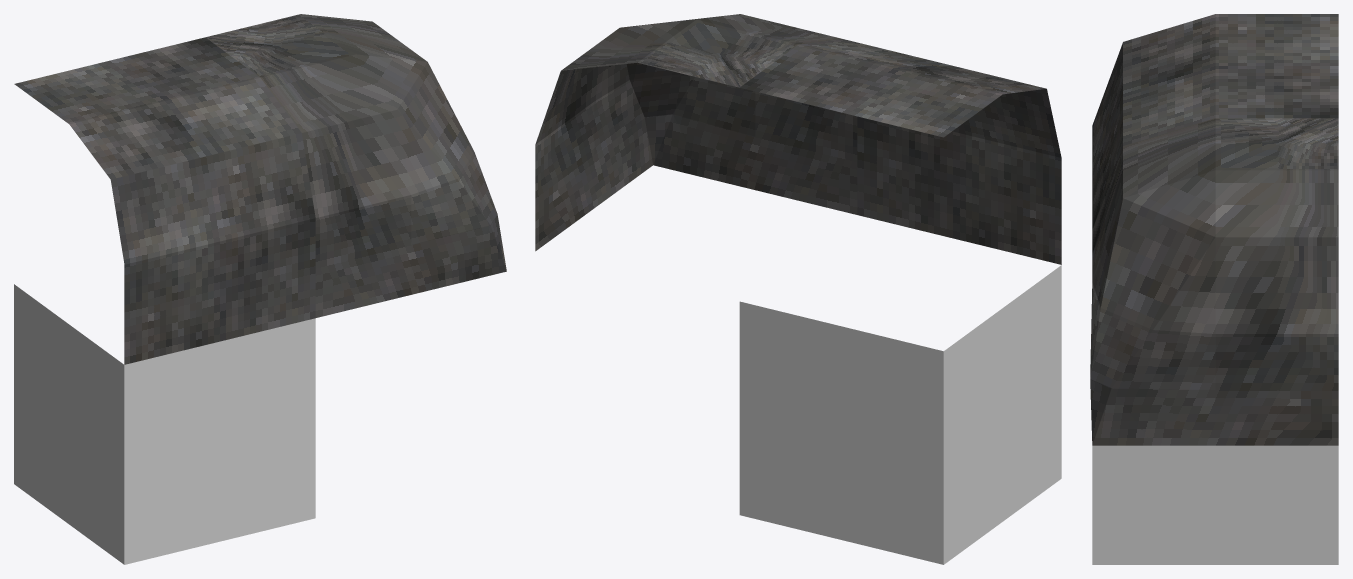
The model's file is wall.glb.
3 renders of one model, left to right at view 1: azimuth 30°, elevation 25°; view 2: azimuth 150°, elevation 25°; view 3: azimuth 270°, elevation 25°, orthographic. The views are drawn at different scales.
Parts seen in each view (by area): view 1: wall, outter_top, outter_corner; view 2: wall, outter_corner, outter_top; view 3: outter_corner, wall, outter_top.
Boxes of the visible parts, box(x1,y1,x2,y2) form: wall: box(14, 284, 315, 564); outter_top: box(14, 37, 315, 364); outter_corner: box(206, 14, 506, 317); wall: box(739, 265, 1061, 564); outter_corner: box(535, 14, 857, 251); outter_top: box(740, 39, 1061, 264); outter_corner: box(1090, 118, 1338, 445); wall: box(1092, 445, 1338, 564); outter_top: box(1092, 14, 1338, 228).
Bounding box in the file's own units: 4 × 4 × 2.02.
1 material, 1 textured.
